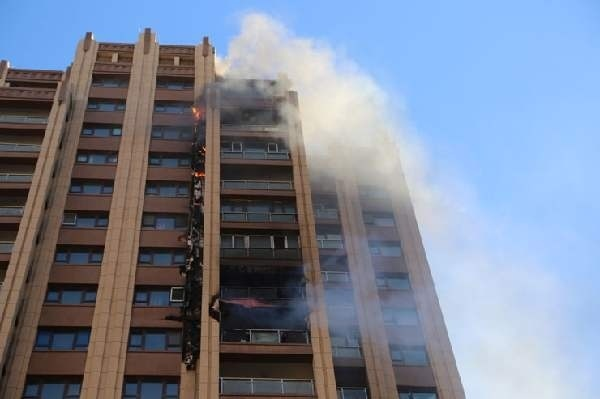fire: (190, 100, 205, 119), (190, 165, 205, 180)
